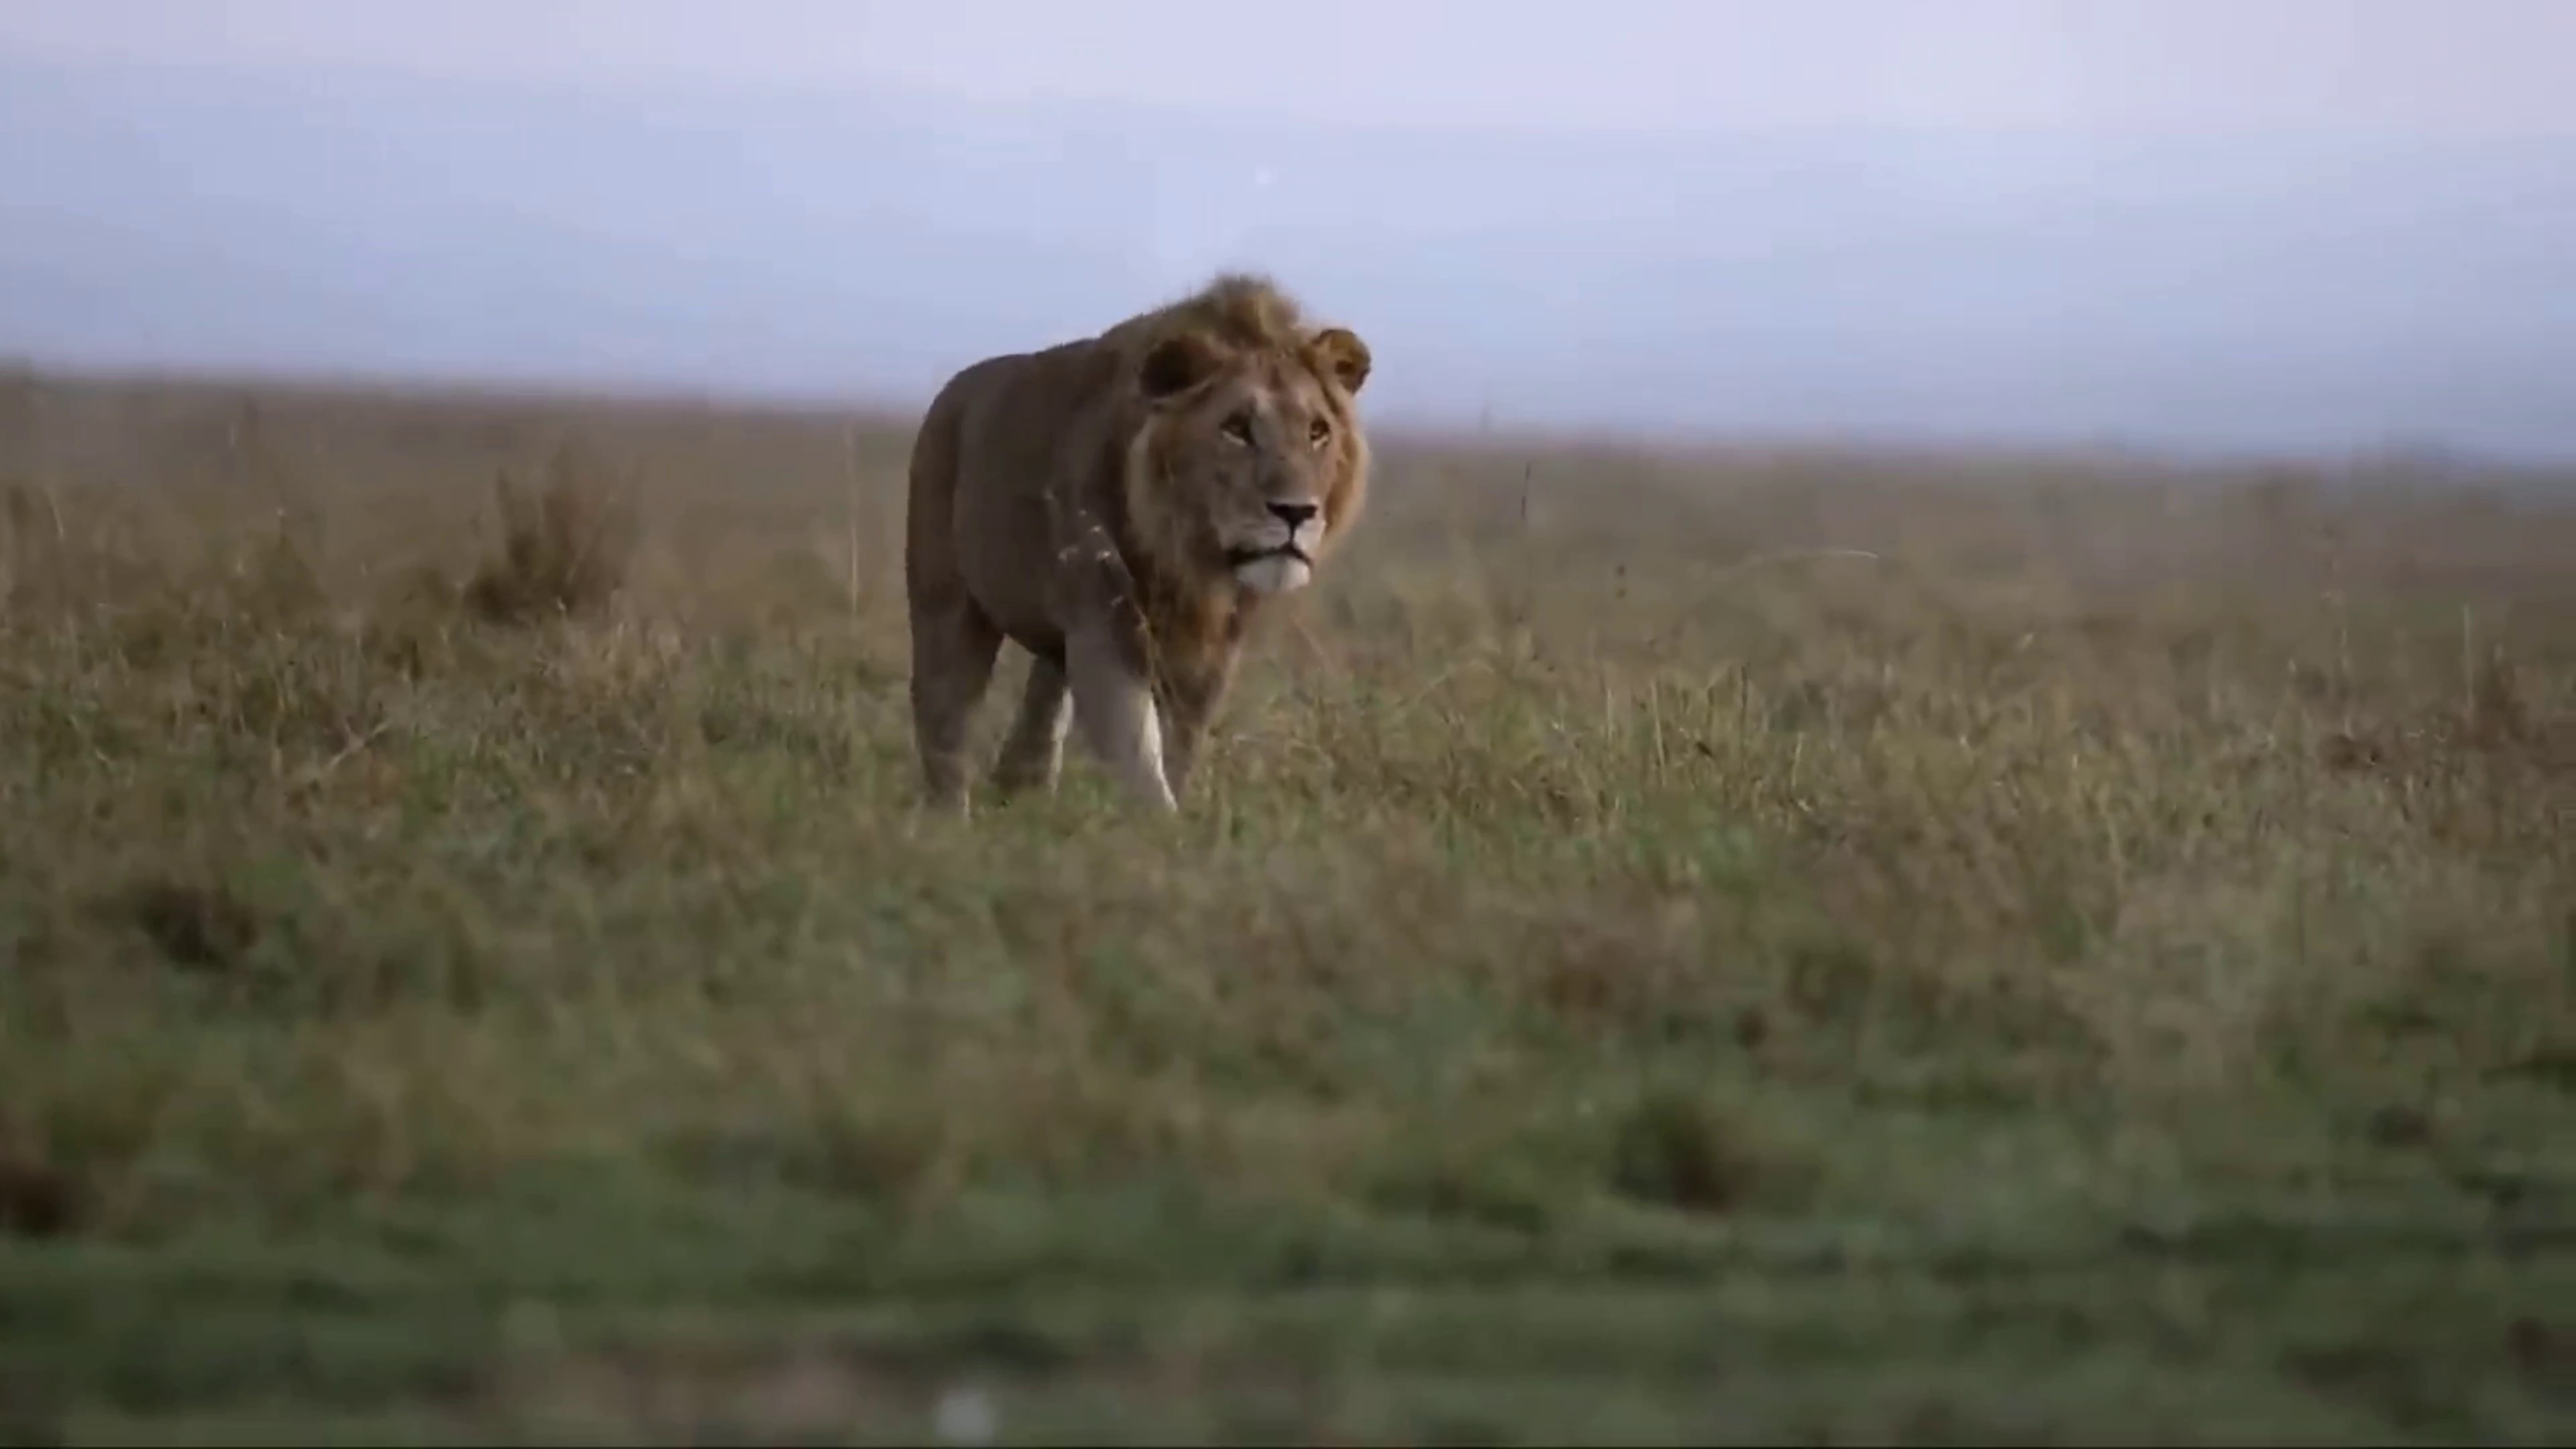Lion: (902, 272, 1373, 821)
